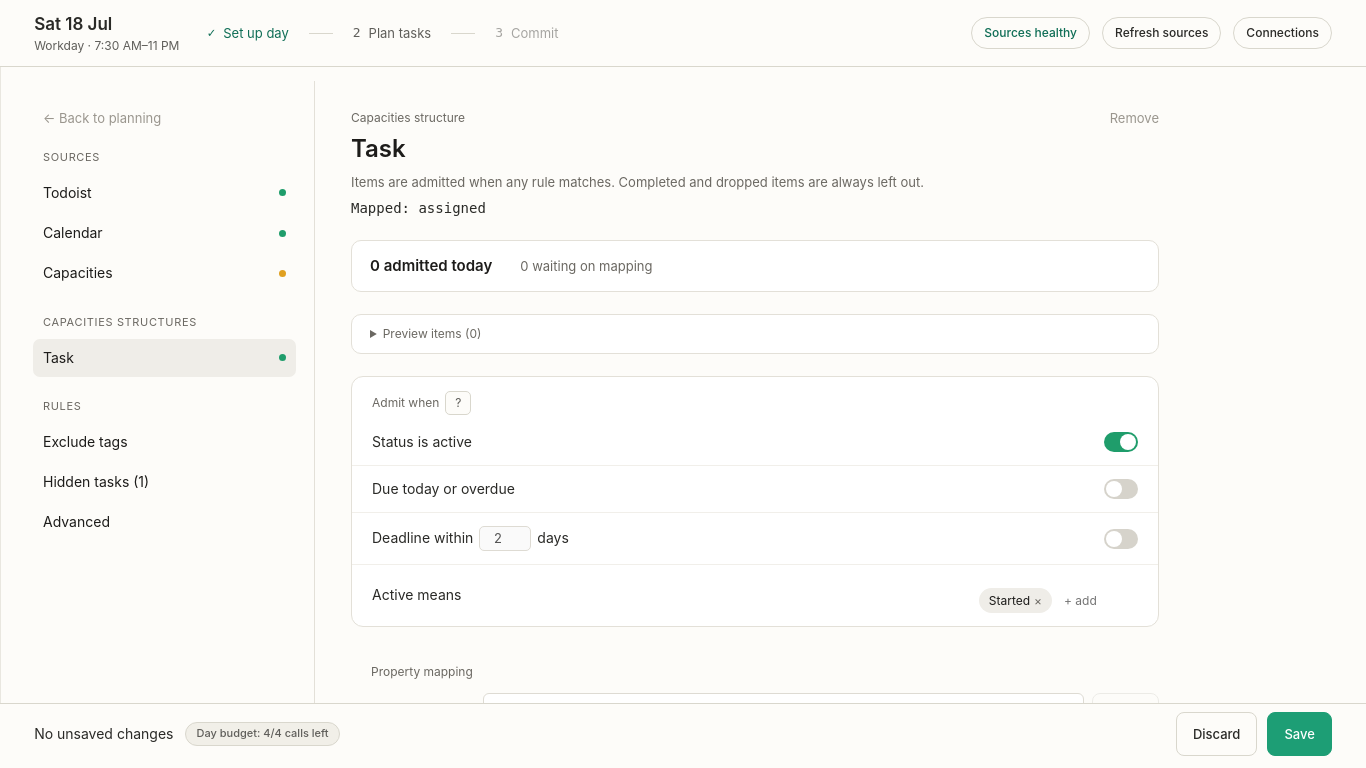
Test case: Connections · Hidden tasks › Discard restores a shown-again hidden task
Step 1. Click the button "Hidden tasks (1)" → point(96, 482), box [33, 463, 296, 502]
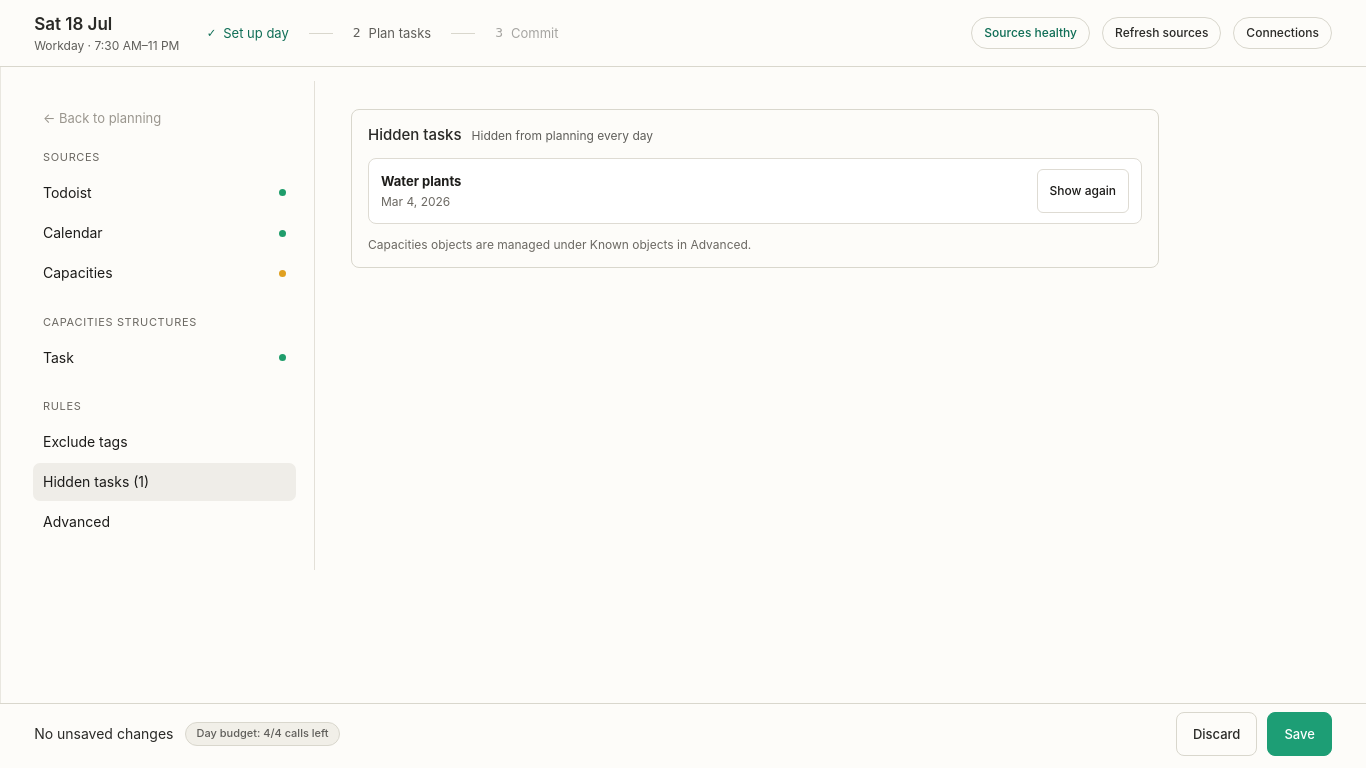
Step 2. Click the button with aria-label "Show again Water plants" → point(1083, 191), box [1036, 169, 1129, 213]
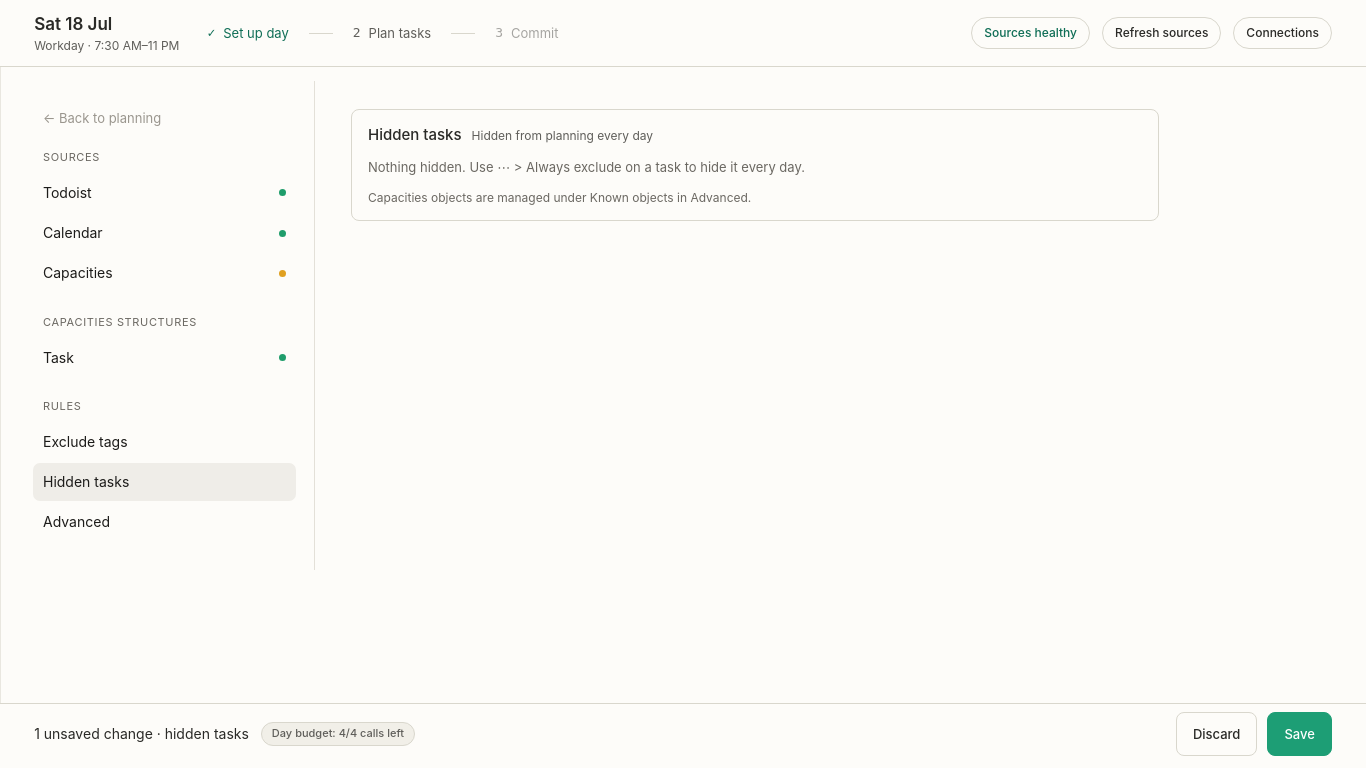
Expected: the text "1 unsaved change · hidden tasks" is shown, [34, 724, 249, 744]
Step 3. Click the button "Discard" → point(1217, 734), box [1176, 712, 1257, 756]
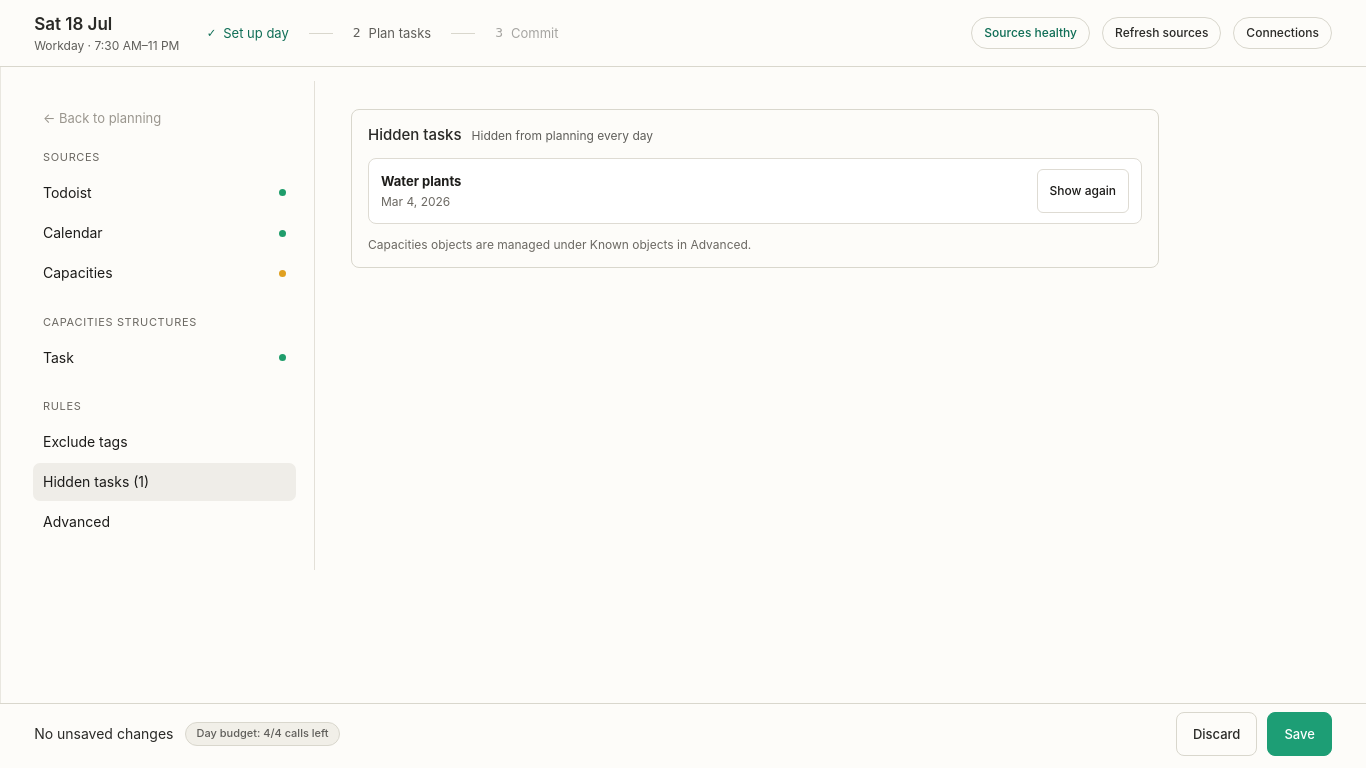
Expected: the button with aria-label "Show again Water plants" is shown, [1036, 169, 1129, 213]
Expected: the button "Hidden tasks (1)" is shown, [33, 463, 296, 502]
Expected: the text "No unsaved changes" is shown, [34, 724, 173, 744]
